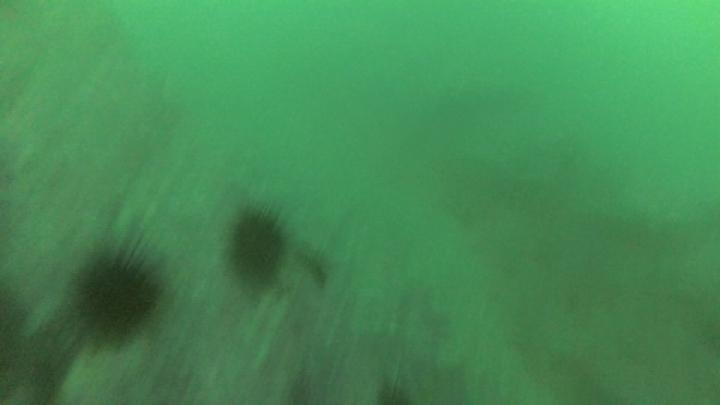echinus: (68, 237, 169, 346), (222, 201, 294, 291)
